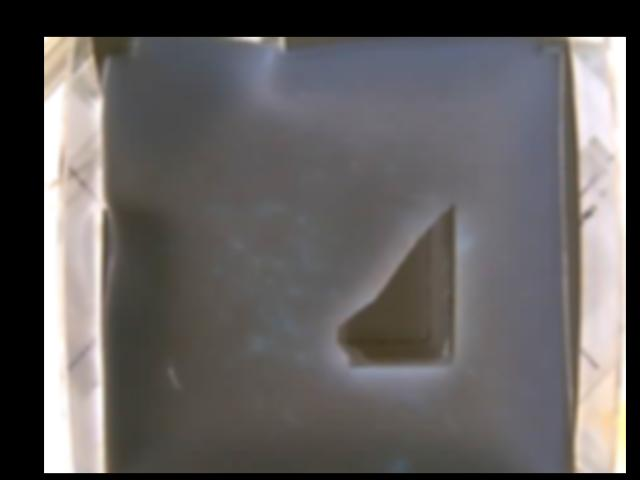China: (337, 202, 456, 366)
